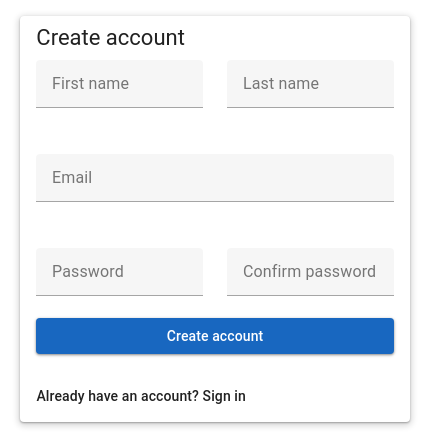
Test: Course registration › Requires a first name
Step 1. Type "Student" into the field labelled "Last name" → (310, 84), box [227, 60, 394, 108]
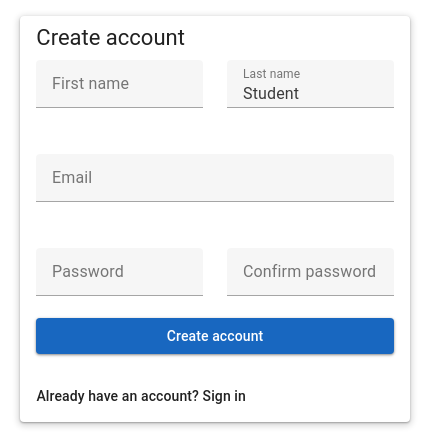
Step 2. Type "student@example.com" into the field labelled "Email" → (215, 178), box [36, 154, 394, 202]
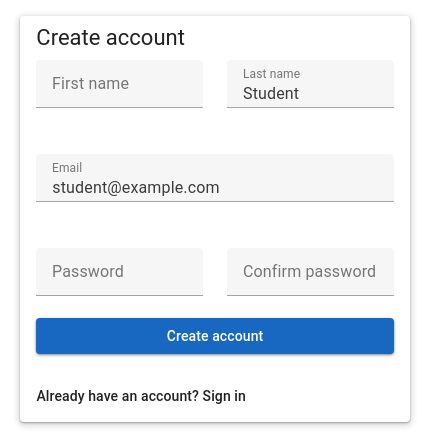
Step 3. Type "password123" into the password field labelled "Password" → (120, 272), box [36, 248, 203, 296]
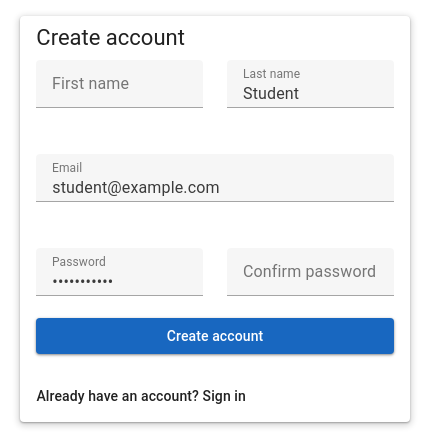
Step 4. Type "password123" into the password field labelled "Confirm password" → (310, 272), box [227, 248, 394, 296]
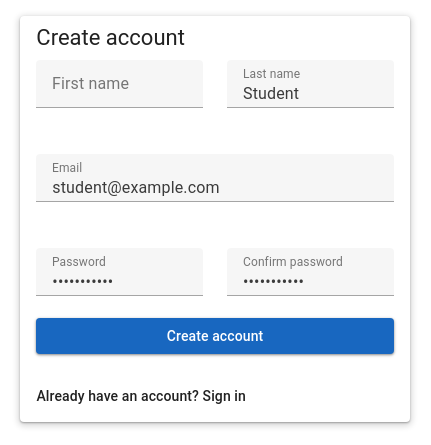
Step 5. Submit the form, box [36, 60, 394, 354]
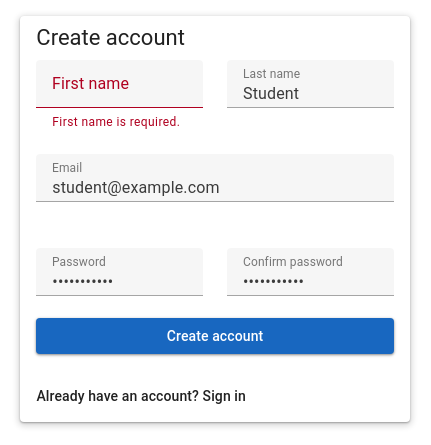
Now the text "First name is required." is shown, box [52, 116, 187, 128]
